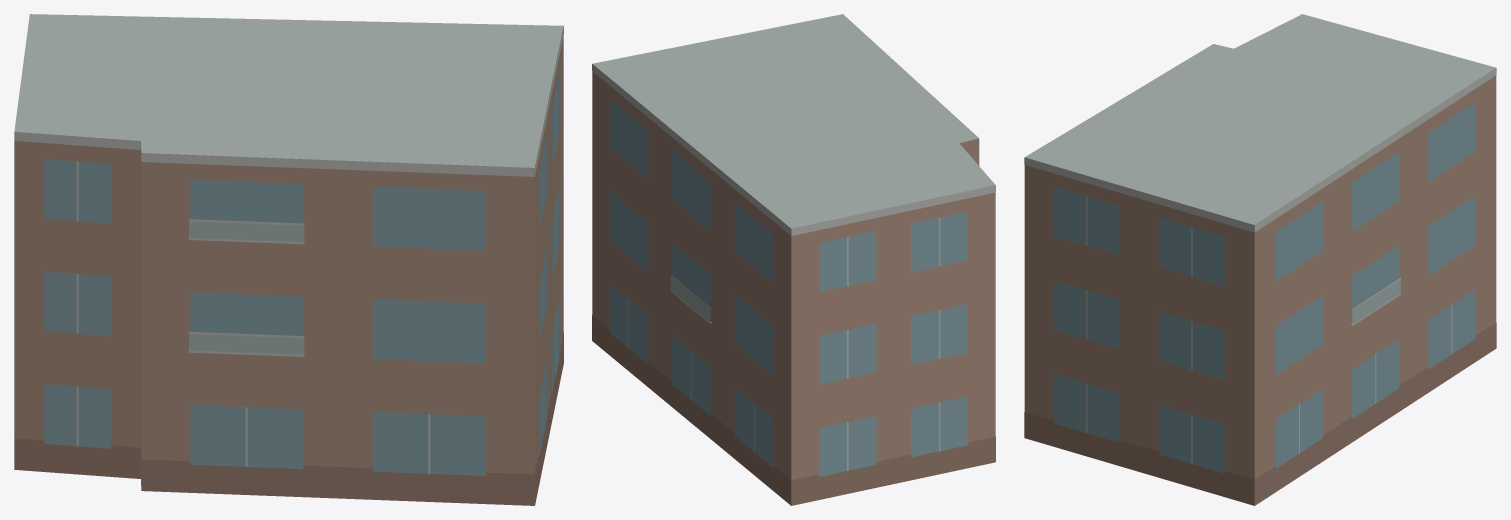
Rendered from survey-upis-32749818.glb.
3 views of the same model, side by side, from view 1: azimuth 30°, elevation 25°; view 2: azimuth 150°, elevation 25°; view 3: azimuth 270°, elevation 25° (orthographic). The views are drawn at different scales.
Visible parts, largest first — view 1: survey-upis-32749818.tmp; view 2: survey-upis-32749818.tmp; view 3: survey-upis-32749818.tmp.
Part boxes in pixels (box(x1,y1,x2,y2)): survey-upis-32749818.tmp: box(14, 14, 563, 505); survey-upis-32749818.tmp: box(592, 14, 995, 505); survey-upis-32749818.tmp: box(1024, 14, 1496, 505).
Size of the model in its own units: 14.76 by 9.15 by 13.95.
